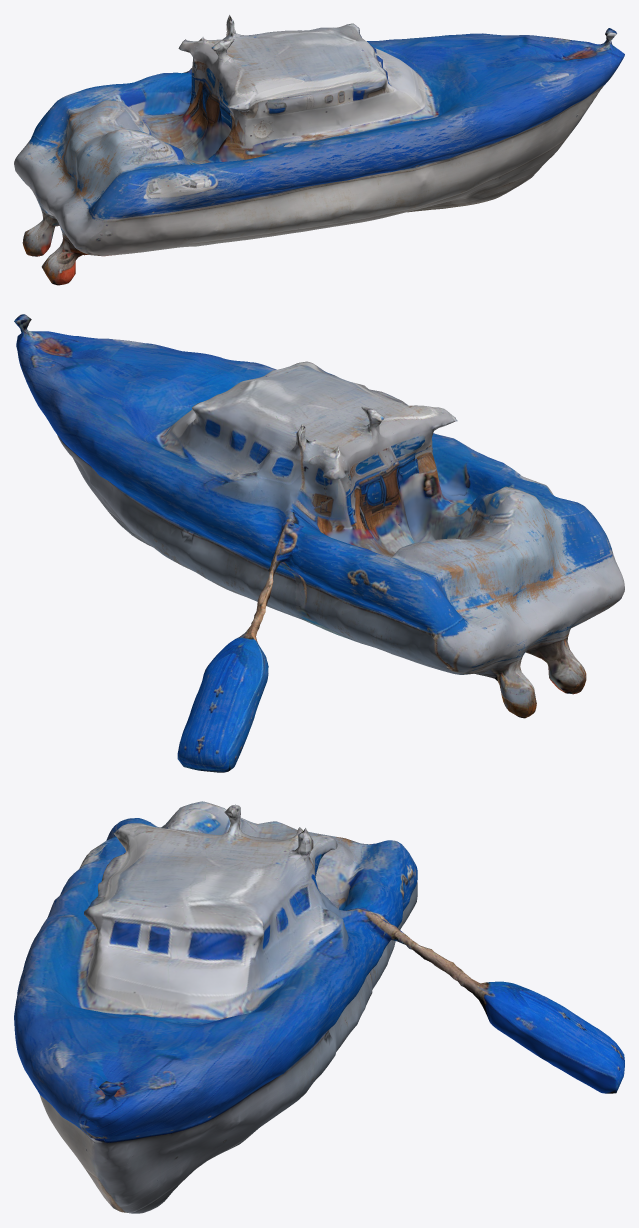
File: boat_called_Hydra_0514132026_refine.obj
3 views of the same model, one above another, from view 1: azimuth 30°, elevation 25°; view 2: azimuth 150°, elevation 25°; view 3: azimuth 270°, elevation 25° (orthographic). The views are drawn at different scales.
Parts seen in each view (by area): view 1: Mesh_0; view 2: Mesh_0; view 3: Mesh_0.
Boxes of the visible parts, box(x1,y1,x2,y2) form: Mesh_0: box(14, 15, 624, 285); Mesh_0: box(14, 314, 624, 772); Mesh_0: box(14, 801, 624, 1213).
Size of the model in its own units: 1.2 by 0.4419 by 0.884.
Materials: 1 (1 with a texture image).
